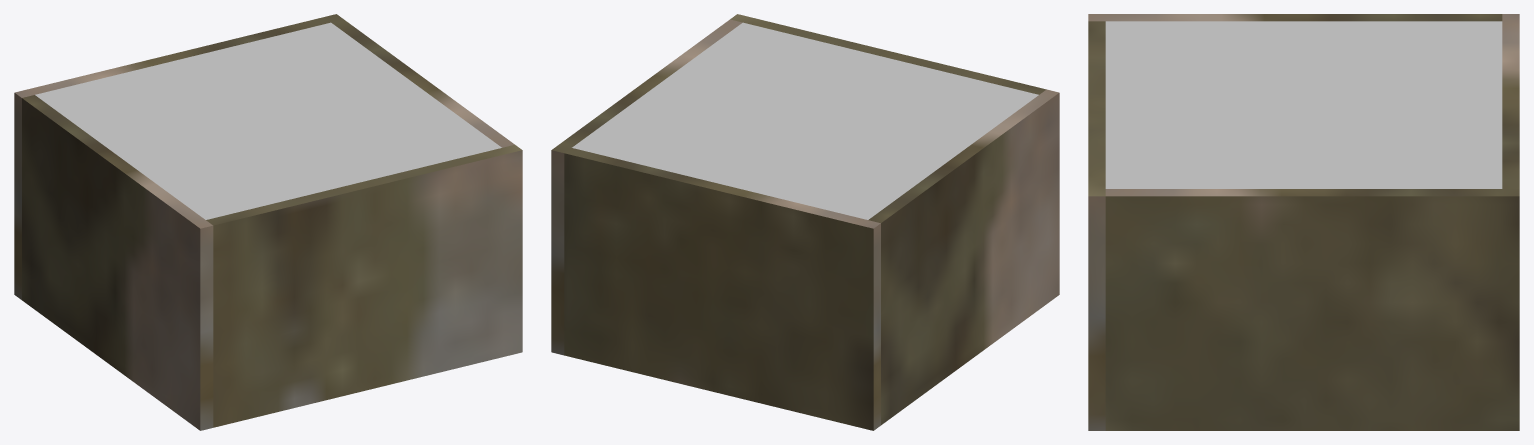
The model's file is MainMenu.fbx.
3 renders of one model, left to right at view 1: azimuth 30°, elevation 25°; view 2: azimuth 150°, elevation 25°; view 3: azimuth 270°, elevation 25°, orthographic. The views are drawn at different scales.
Visible parts, largest first — view 1: Wall.Front, Ceiling, Wall.Right, Wall.Back, Wall.Left; view 2: Wall.Back, Ceiling, Wall.Right, Wall.Left, Wall.Front; view 3: Wall.Left, Ceiling, Wall.Front, Wall.Right, Wall.Back.
Part boxes in pixels (x1,y1,x2,y2): Wall.Front: (206, 145, 522, 427); Ceiling: (35, 22, 501, 219); Wall.Right: (22, 95, 213, 430); Wall.Back: (14, 17, 330, 299); Wall.Left: (324, 14, 514, 147); Wall.Back: (564, 148, 880, 430); Ceiling: (572, 22, 1038, 219); Wall.Right: (868, 89, 1059, 425); Wall.Left: (551, 19, 742, 355); Wall.Front: (730, 14, 1046, 94); Wall.Left: (1105, 189, 1519, 430); Ceiling: (1105, 21, 1502, 188); Wall.Front: (1088, 21, 1105, 430); Wall.Right: (1088, 14, 1502, 21); Wall.Back: (1502, 14, 1519, 188).
Size of the model in its own units: 375 by 225 by 375.
